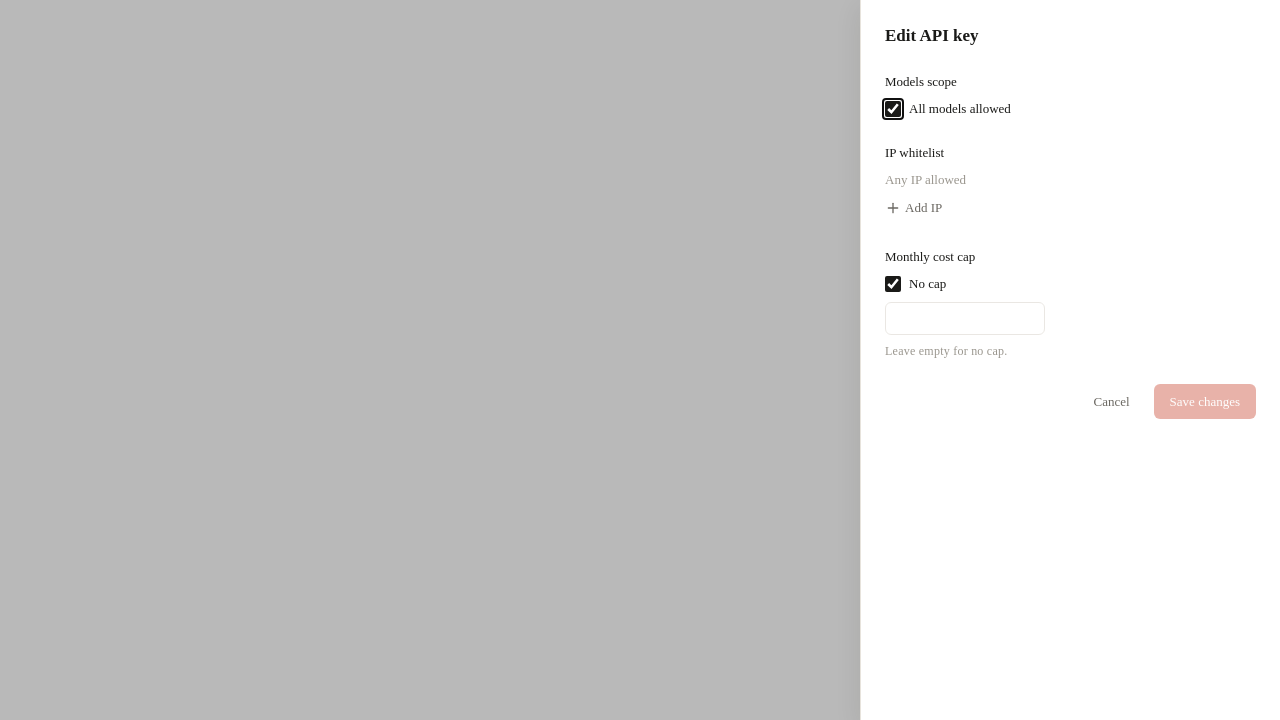
AC3: Configure — ConfigureKeyDrawer / IpWhitelistEditor (component) › 5.5-INT-025: unsaved-changes guard — dirty close → "Discard?" dialog (BR-U-8)
Click the checkbox labelled "No cap" at [893, 284], box left=885, top=276, right=901, bottom=292
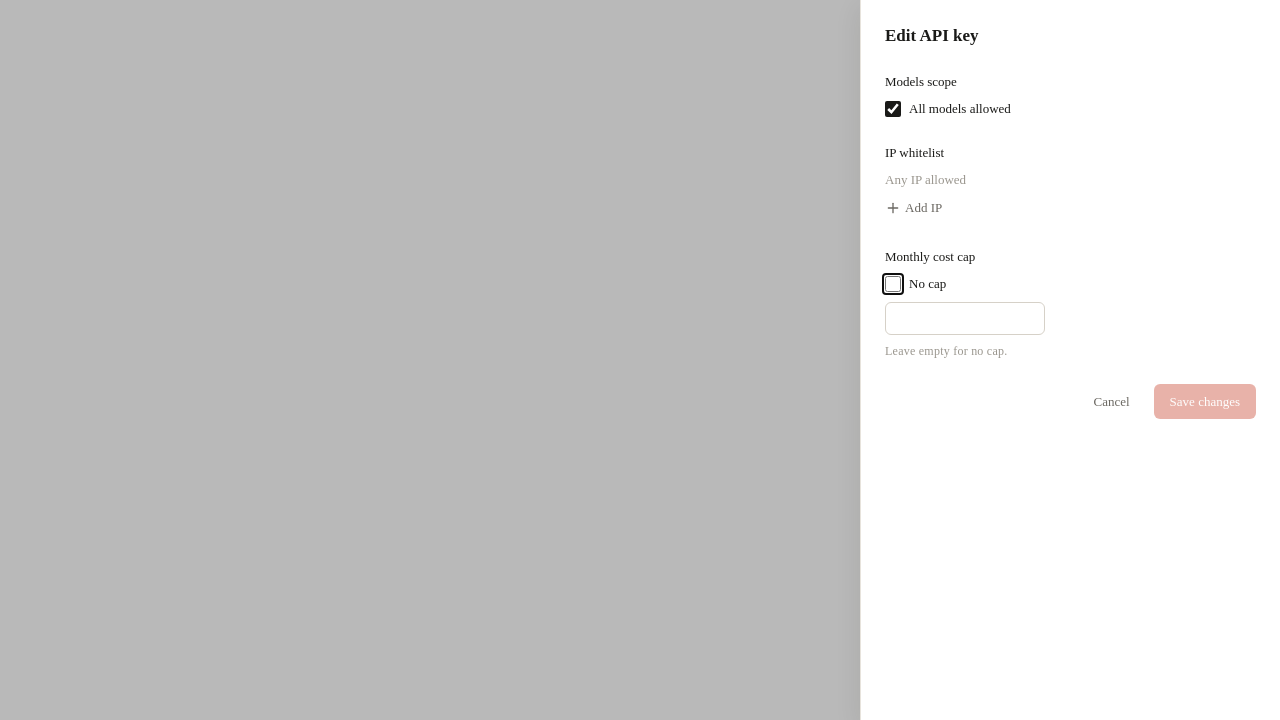
Type "50.00" into the field named "Monthly cost cap in USD" at [965, 318], box left=885, top=302, right=1045, bottom=335
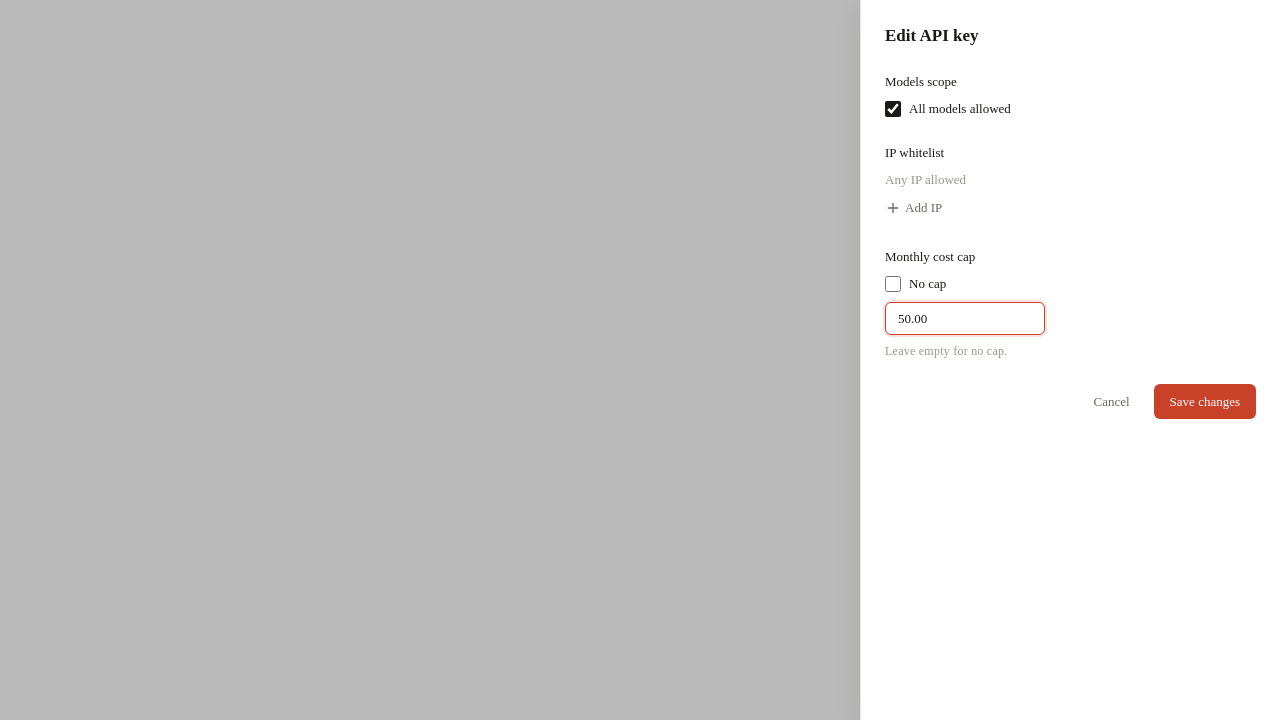
Click the button "Cancel" at [1112, 402], box left=1078, top=384, right=1146, bottom=419
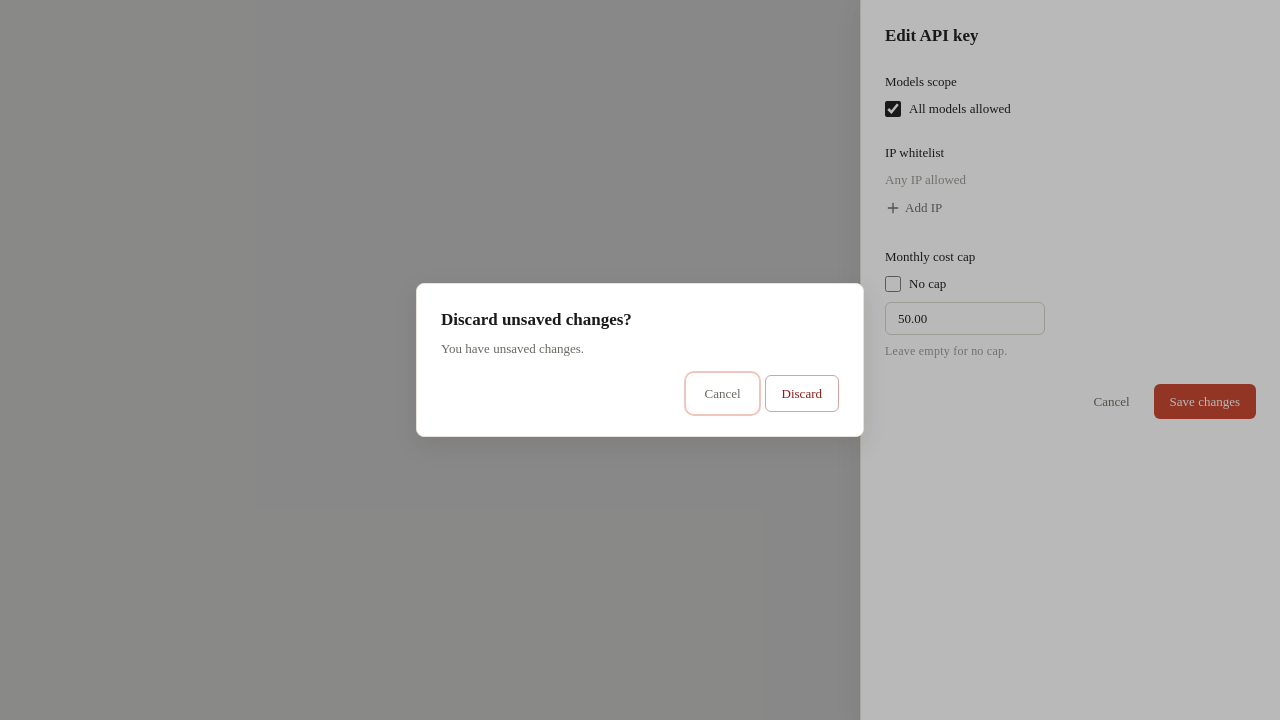
Check: the heading "Discard unsaved changes?" is shown, box left=441, top=310, right=632, bottom=329
